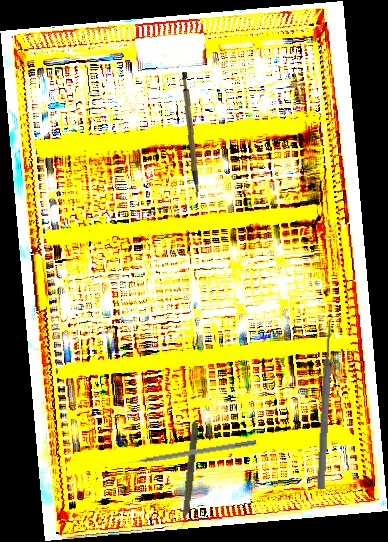Handpiece: (176, 421, 201, 532)
Pusher: (118, 438, 257, 467), (315, 319, 336, 490)
Scalpel Handle: (175, 72, 204, 198)
